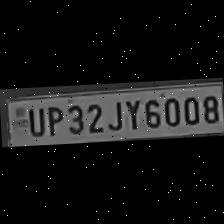0: (178, 92, 200, 125), (160, 94, 180, 128)
2: (82, 100, 104, 134)
3: (63, 100, 84, 136)
6: (140, 94, 160, 130)
8: (198, 92, 220, 124)
J: (104, 97, 122, 133)
P: (43, 102, 64, 138)
U: (23, 104, 44, 138)
Y: (121, 96, 141, 132)
